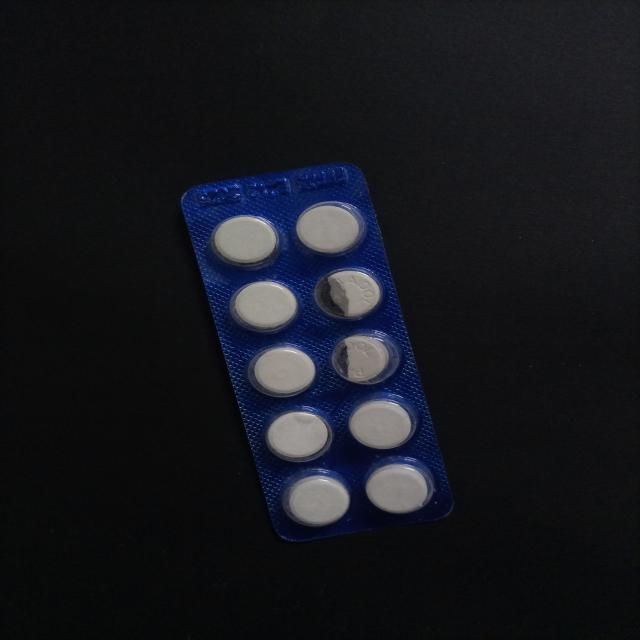defect: (326, 328, 405, 386), (313, 267, 386, 323)
